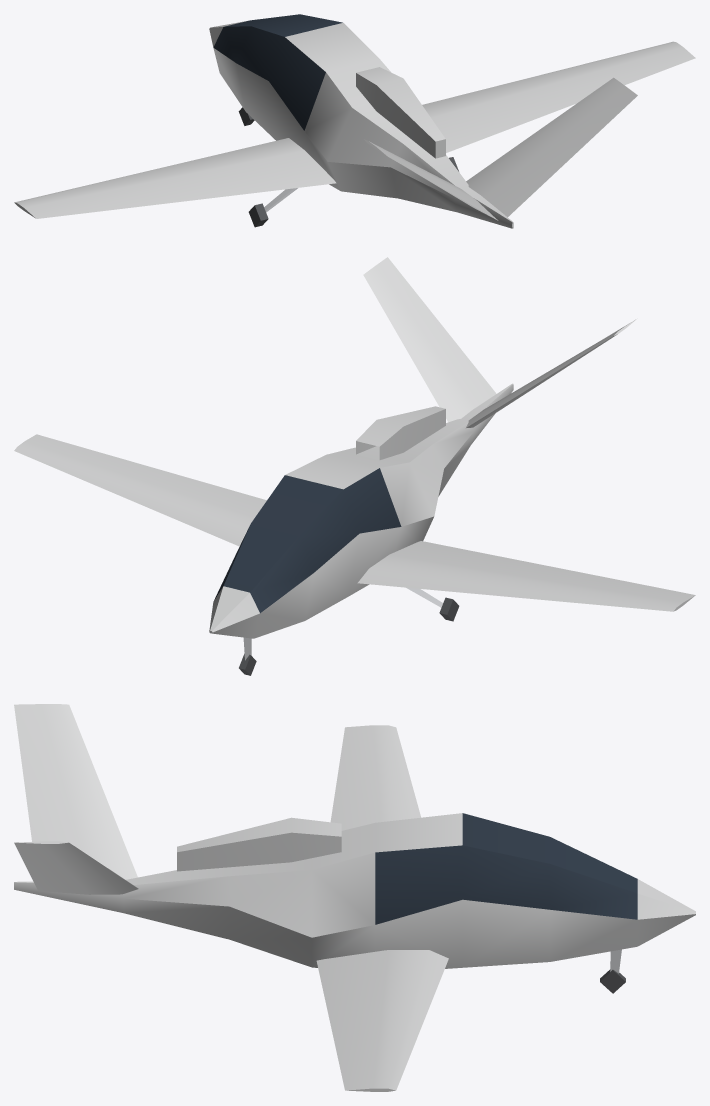
Rendered from Cirrus_Vision_Jet_LOD2.glb.
The picture shows the model from 3 angles, top to bottom: view 1: azimuth 30°, elevation 25°; view 2: azimuth 150°, elevation 25°; view 3: azimuth 270°, elevation 25°; orthographic projection. The views are drawn at different scales.
Visible parts, largest first — view 1: Fuselage, Wing_Left, Wing_Right, VTail_Right, Nacelle, VTail_Left; view 2: Fuselage, Wing_Left, Wing_Right, VTail_Right, Nacelle, VTail_Left; view 3: Fuselage, Wing_Right, VTail_Left, Wing_Left, Nacelle, VTail_Right.
Part boxes in pixels (<box>): Fuselage: <box>209,14,513,228</box>; Wing_Left: <box>14,138,336,218</box>; Wing_Right: <box>422,41,695,152</box>; VTail_Right: <box>466,77,637,217</box>; Nacelle: <box>356,67,445,158</box>; VTail_Left: <box>364,139,498,220</box>; Fuselage: <box>209,383,513,638</box>; Wing_Left: <box>357,541,695,611</box>; Wing_Right: <box>14,434,266,546</box>; VTail_Right: <box>363,257,496,422</box>; Nacelle: <box>356,406,445,460</box>; VTail_Left: <box>466,318,637,427</box>; Fuselage: <box>14,813,695,968</box>; Wing_Right: <box>316,950,448,1091</box>; VTail_Left: <box>14,704,137,879</box>; Wing_Left: <box>330,725,420,830</box>; Nacelle: <box>177,817,341,871</box>; VTail_Right: <box>14,841,138,894</box>.
Size of the model in its own units: 11.8 by 3.32 by 9.36.
